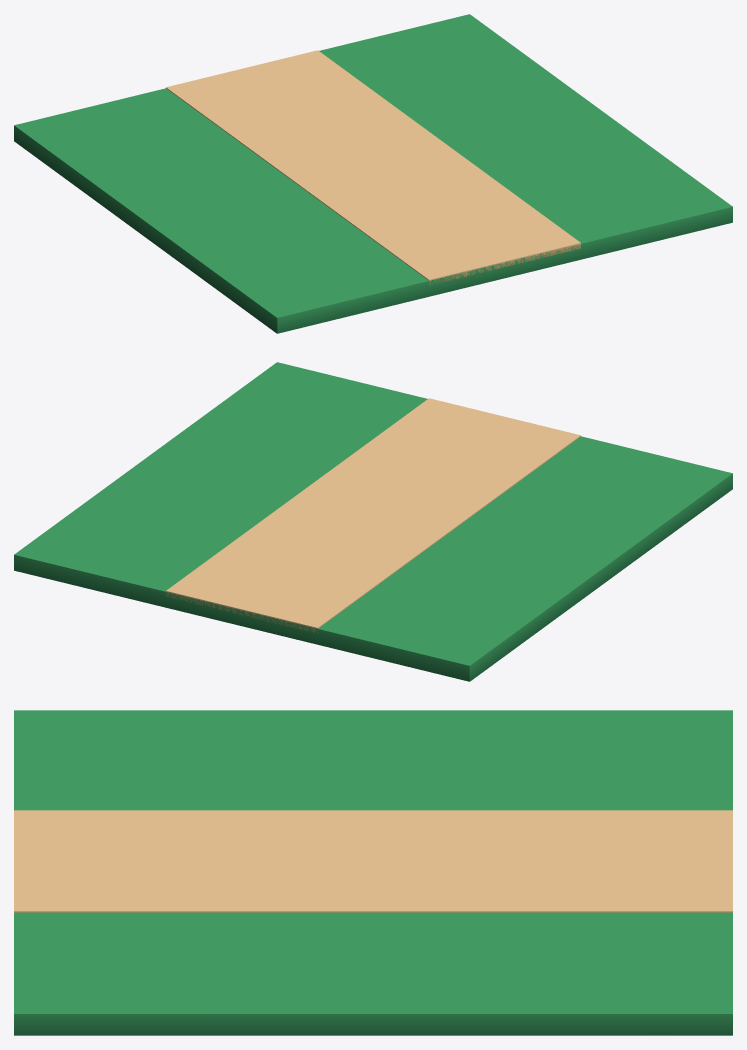
File: camino_recto.glb
3 views of the same model, one above another, from view 1: azimuth 30°, elevation 25°; view 2: azimuth 150°, elevation 25°; view 3: azimuth 270°, elevation 25° (orthographic). The views are drawn at different scales.
Visible parts, largest first — view 1: camino_recto; view 2: camino_recto; view 3: camino_recto.
Part boxes in pixels (x1=…): camino_recto: x1=14, y1=14, x2=732, y2=333; camino_recto: x1=14, y1=362, x2=732, y2=681; camino_recto: x1=14, y1=710, x2=732, y2=1035.
Bounding box in the file's own units: 6 × 0.212 × 6.
Materials: 1 (1 with a texture image).
